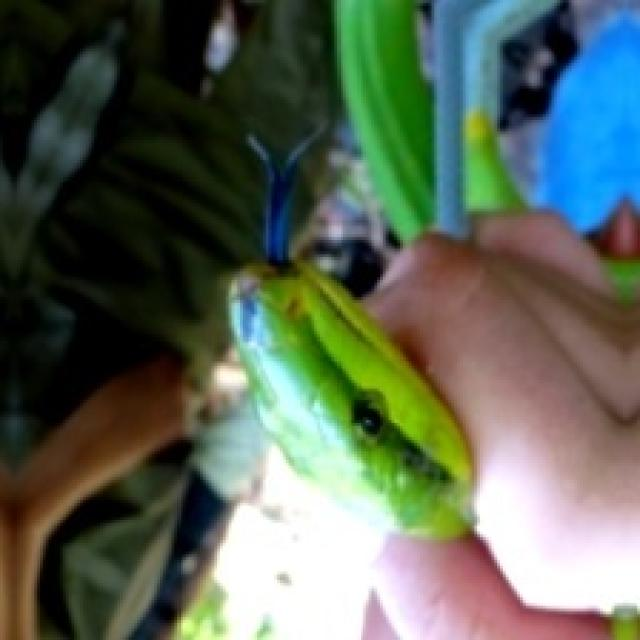red-tailed green ratsnake: (231, 260, 471, 537)
